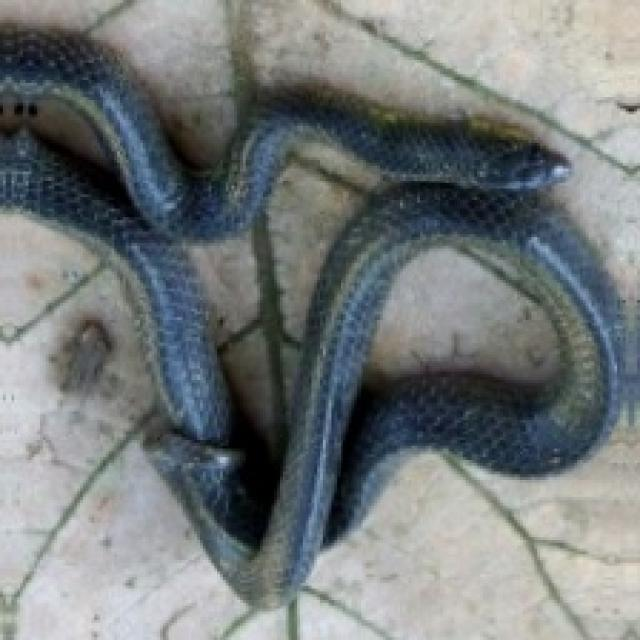gunthers philippine shrub snake: (0, 0, 620, 606), (363, 246, 560, 391), (269, 160, 360, 334), (183, 226, 260, 331)
